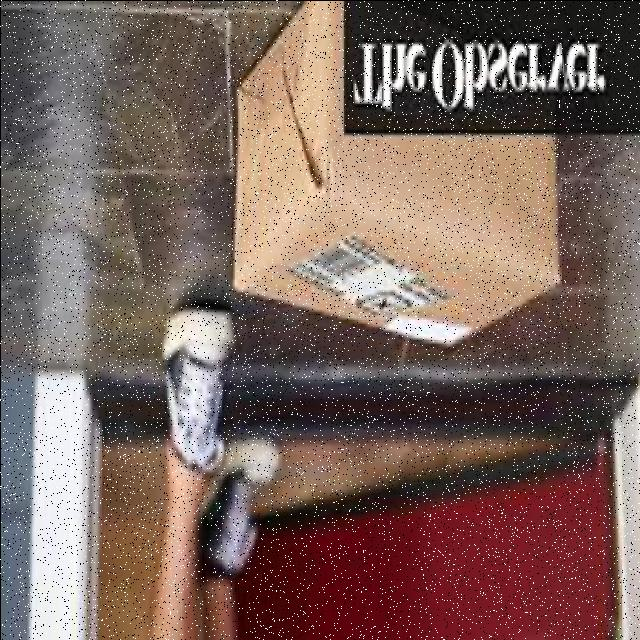normal: (225, 0, 568, 351)
